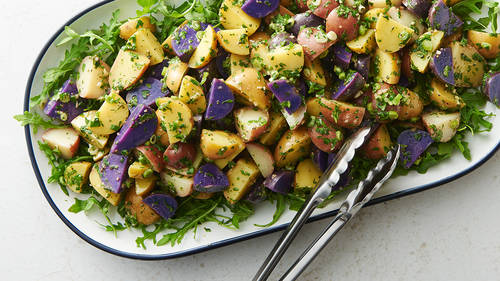boiled potatoes: (76, 46, 145, 93), (230, 65, 270, 104)
